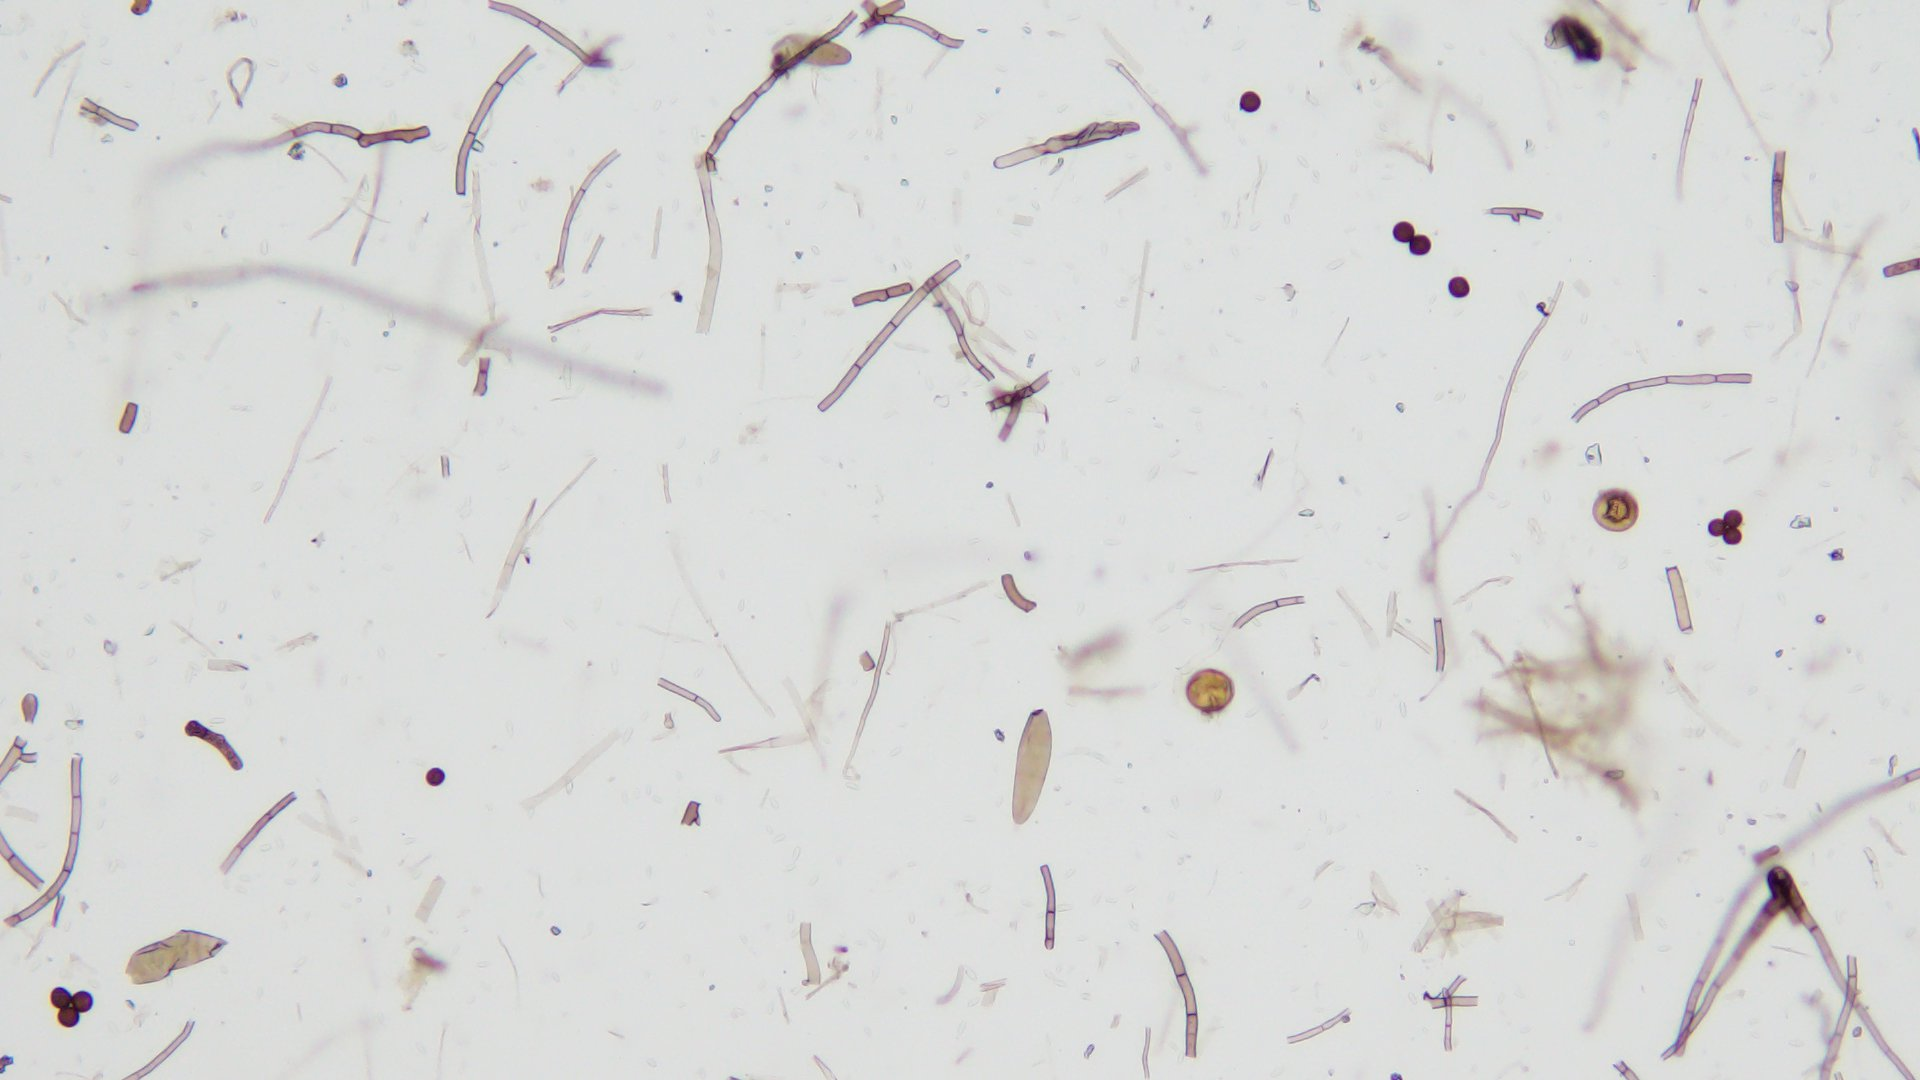dbb_spore: (1005, 707, 1059, 824), (770, 32, 853, 69)
shs_spore: (1237, 91, 1263, 113), (1448, 276, 1472, 298), (1410, 232, 1432, 255), (57, 1007, 80, 1029), (1394, 222, 1414, 245), (70, 990, 91, 1011), (50, 988, 73, 1007), (425, 767, 444, 786), (1725, 509, 1743, 527), (1708, 518, 1727, 535), (1724, 527, 1742, 545)
xb_spore: (1593, 488, 1640, 531), (1188, 670, 1234, 713)
